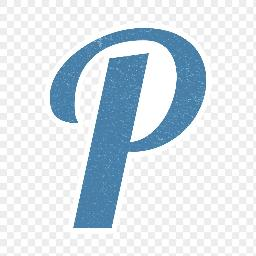p: (40, 14, 212, 240)
